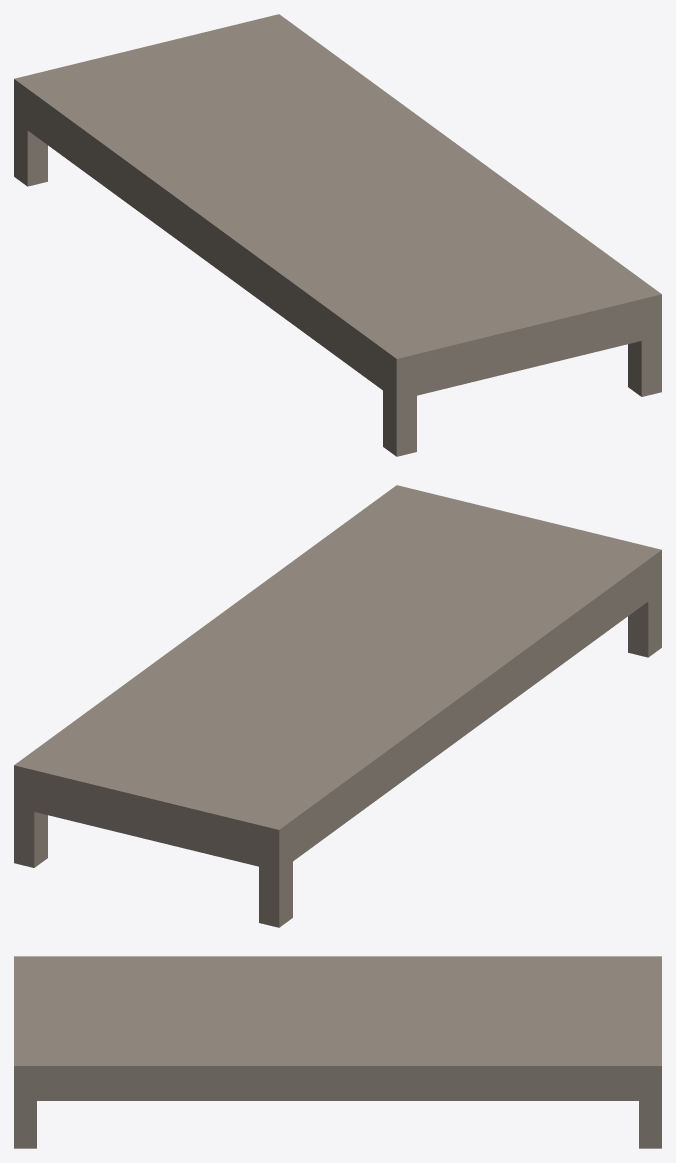
Rendered from MesaCafé.glb.
The picture shows the model from 3 angles, top to bottom: view 1: azimuth 30°, elevation 25°; view 2: azimuth 150°, elevation 25°; view 3: azimuth 270°, elevation 25°; orthographic projection. The views are drawn at different scales.
Parts seen in each view (by area): view 1: Coffee_Table-convcol; view 2: Coffee_Table-convcol; view 3: Coffee_Table-convcol.
Part boxes in pixels (<box>): Coffee_Table-convcol: <box>14,14,661,456</box>; Coffee_Table-convcol: <box>14,485,661,927</box>; Coffee_Table-convcol: <box>14,956,661,1148</box>.
Bounding box in the file's own units: 1 × 0.3527 × 2.5.
